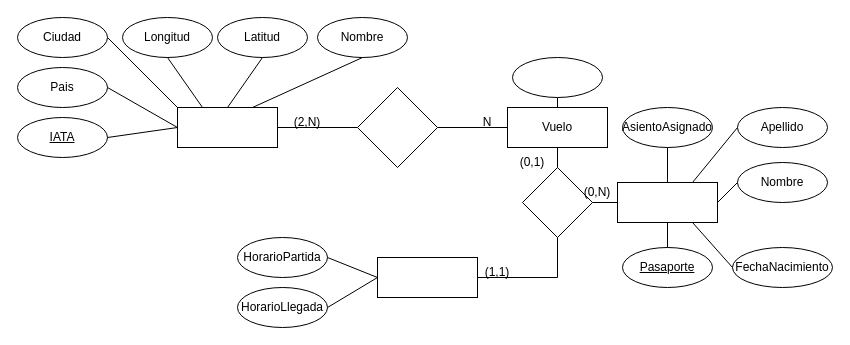
Some shapes in this 850 by 345 pixel diagram are drawn without their labels. The shapes that lost their labels are listed below. From the top down, each one's centre as x and y in pixels, then its label:
At (557,77): "NroVuelo".
At (227,127): "Aeropuerto".
At (397,127): "pasa por".
At (557,202): "viaja".
At (667,202): "Pasajero".
At (427,277): "Dia".
